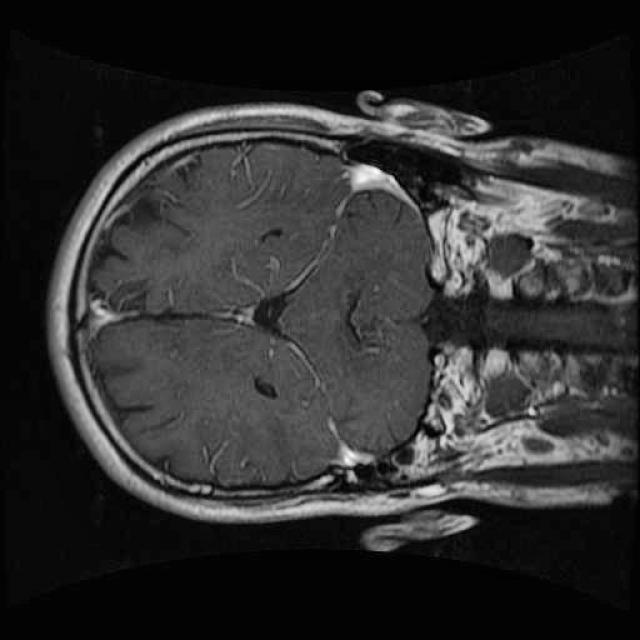Tumor: (341, 265, 420, 355)
